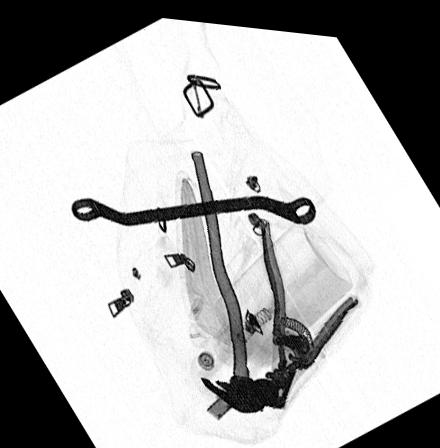Hammer: (189, 138, 264, 411)
Pliers: (253, 212, 359, 401)
Wrench: (70, 187, 319, 225)
